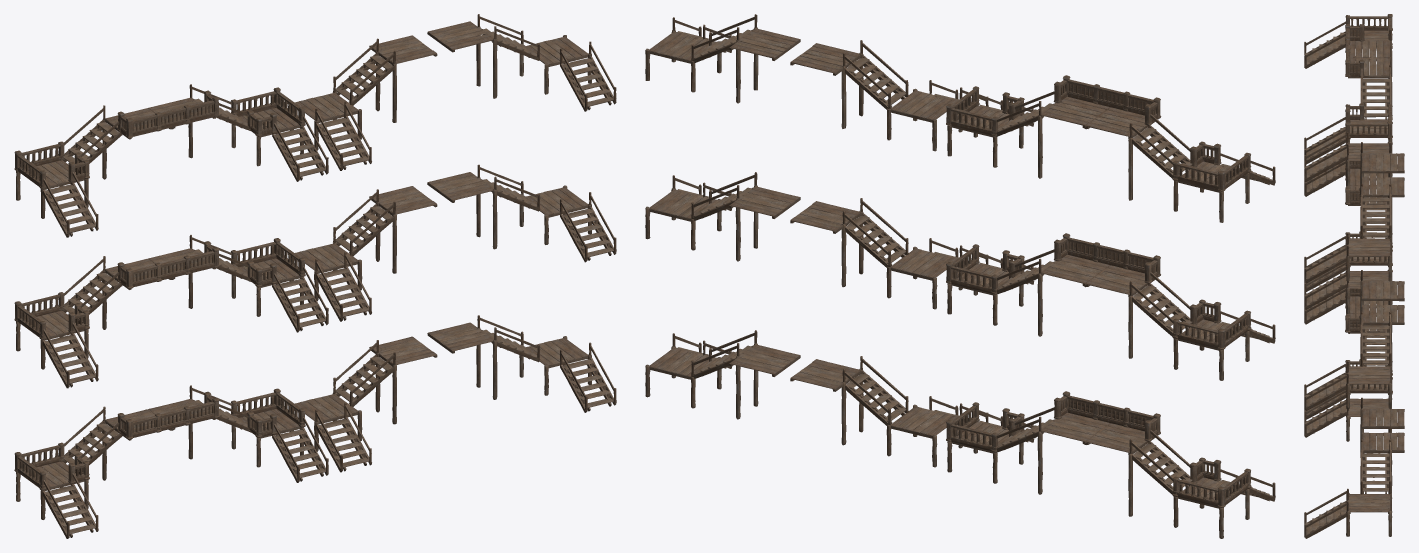
Rendered from Large_Stairs_Platforms_A1.fbx.
3 renders of one model, left to right at view 1: azimuth 30°, elevation 25°; view 2: azimuth 150°, elevation 25°; view 3: azimuth 270°, elevation 25°, orthographic. The views are drawn at different scales.
Visible parts, largest first — view 1: Large_Stairs_Platform_A1.002, Large_Stairs_Platform_A1.001, Large_Stairs_Platform_A1, Stairs_Platform_A1.002, Stairs_Platform_A1, Stairs_Platform_A1.001, Stairs_Platform_A2.002, Stairs_Platform_A2, Stairs_Platform_A2.001, Large_Stairs_Platform_Railing_A1.002, Large_Stairs_Platform_Railing_A1.001, Large_Stairs_Platform_Railing_A1; view 2: Large_Stairs_Platform_A1, Large_Stairs_Platform_A1.001, Large_Stairs_Platform_A1.002, Large_Stairs_Platform_Railing_A1.002, Large_Stairs_Platform_Railing_A1.001, Large_Stairs_Platform_Railing_A1, Stairs_Platform_A1, Stairs_Platform_A1.001, Stairs_Platform_A1.002, Stairs_Platform_A2, Stairs_Platform_A2.001, Stairs_Platform_A2.002; view 3: Large_Stairs_Platform_A1.002, Stairs_Platform_A2.002, Stairs_Platform_A2.001, Stairs_Platform_A2, Stairs_Platform_A1.002, Stairs_Platform_A1, Stairs_Platform_A1.001, Large_Stairs_Platform_Railing_A1.002, Large_Stairs_Platform_A1.001, Large_Stairs_Platform_A1, Large_Stairs_Platform_Railing_A1, Large_Stairs_Platform_Railing_A1.001.
Boxes of the visible parts, bbox=[...] form: Large_Stairs_Platform_A1.002: bbox=[16, 84, 328, 237]; Large_Stairs_Platform_A1.001: bbox=[16, 235, 328, 388]; Large_Stairs_Platform_A1: bbox=[16, 385, 328, 538]; Stairs_Platform_A1.002: bbox=[289, 35, 437, 170]; Stairs_Platform_A1: bbox=[289, 336, 437, 472]; Stairs_Platform_A1.001: bbox=[289, 186, 437, 321]; Stairs_Platform_A2.002: bbox=[427, 14, 616, 111]; Stairs_Platform_A2: bbox=[427, 315, 616, 412]; Stairs_Platform_A2.001: bbox=[427, 164, 616, 262]; Large_Stairs_Platform_Railing_A1.002: bbox=[14, 87, 305, 189]; Large_Stairs_Platform_Railing_A1.001: bbox=[14, 238, 305, 340]; Large_Stairs_Platform_Railing_A1: bbox=[14, 388, 305, 490]; Large_Stairs_Platform_A1: bbox=[947, 407, 1275, 538]; Large_Stairs_Platform_A1.001: bbox=[947, 249, 1275, 380]; Large_Stairs_Platform_A1.002: bbox=[947, 91, 1275, 222]; Large_Stairs_Platform_Railing_A1.002: bbox=[946, 75, 1251, 191]; Large_Stairs_Platform_Railing_A1.001: bbox=[946, 233, 1251, 349]; Large_Stairs_Platform_Railing_A1: bbox=[946, 391, 1251, 507]; Stairs_Platform_A1: bbox=[790, 356, 988, 467]; Stairs_Platform_A1.001: bbox=[790, 198, 988, 309]; Stairs_Platform_A1.002: bbox=[790, 40, 988, 151]; Stairs_Platform_A2: bbox=[645, 330, 800, 419]; Stairs_Platform_A2.001: bbox=[645, 172, 800, 261]; Stairs_Platform_A2.002: bbox=[645, 14, 800, 103]; Large_Stairs_Platform_A1.002: bbox=[1304, 21, 1392, 164]; Stairs_Platform_A2.002: bbox=[1304, 177, 1404, 283]; Stairs_Platform_A2.001: bbox=[1304, 305, 1404, 410]; Stairs_Platform_A2: bbox=[1304, 432, 1404, 538]; Stairs_Platform_A1.002: bbox=[1304, 132, 1404, 202]; Stairs_Platform_A1: bbox=[1304, 390, 1404, 457]; Stairs_Platform_A1.001: bbox=[1304, 262, 1404, 329]; Large_Stairs_Platform_Railing_A1.002: bbox=[1345, 14, 1392, 138]; Large_Stairs_Platform_A1.001: bbox=[1304, 160, 1392, 291]; Large_Stairs_Platform_A1: bbox=[1304, 288, 1392, 419]; Large_Stairs_Platform_Railing_A1: bbox=[1345, 269, 1392, 393]; Large_Stairs_Platform_Railing_A1.001: bbox=[1345, 142, 1392, 265].
Size of the model in its own units: 3833 by 2533 by 714.
